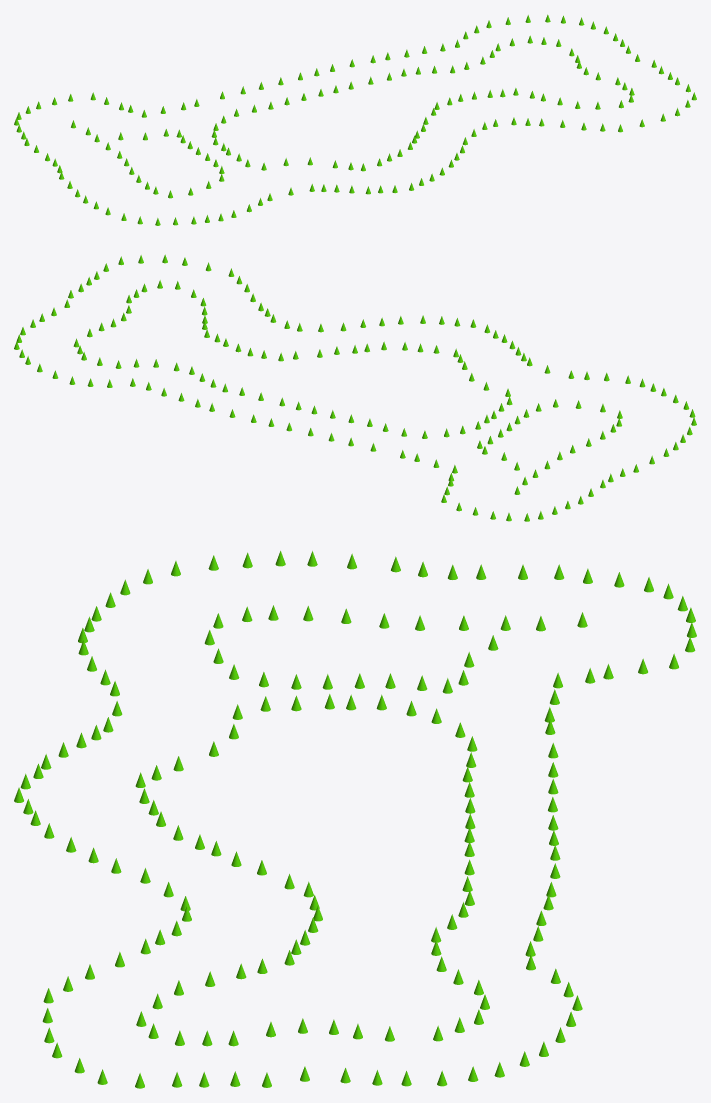
File: ino_circuit.dae
3 renders of one model, top to bottom at view 1: azimuth 30°, elevation 25°; view 2: azimuth 150°, elevation 25°; view 3: azimuth 270°, elevation 25°, orthographic. The views are drawn at different scales.
Bounding box in the file's own units: 14.69 × 8.04 × 0.2045.
